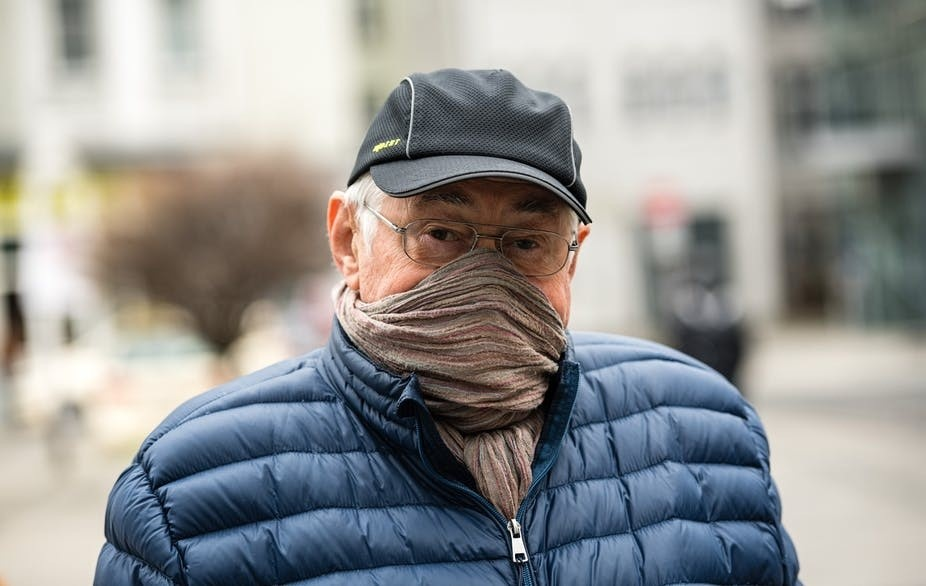face_with_mask: (325, 79, 592, 430)
